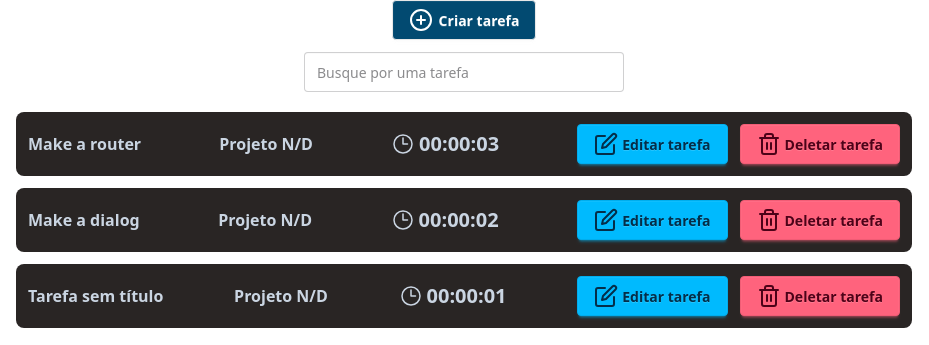
Test: <TaskList /> › should filter the task properly
The image size is (929, 345).
Type "make" into the field with test id "search-task".
click(464, 72); type("make")  # box [304, 52, 624, 92]
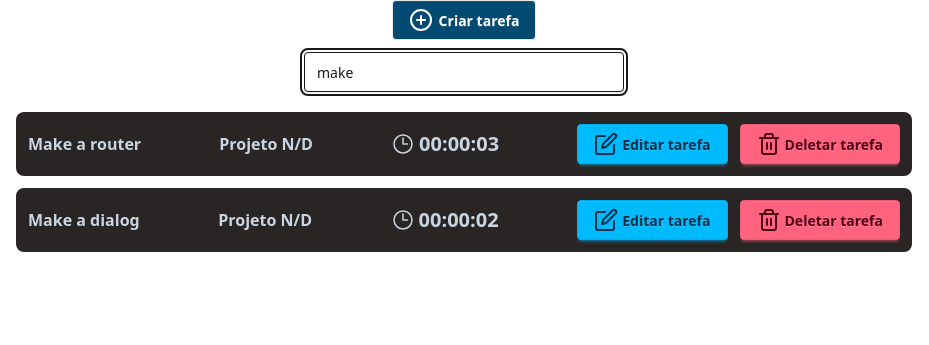
Expected: the number of elements with test id "task-item" is 2, [16, 112, 912, 176]; [16, 188, 912, 252]
